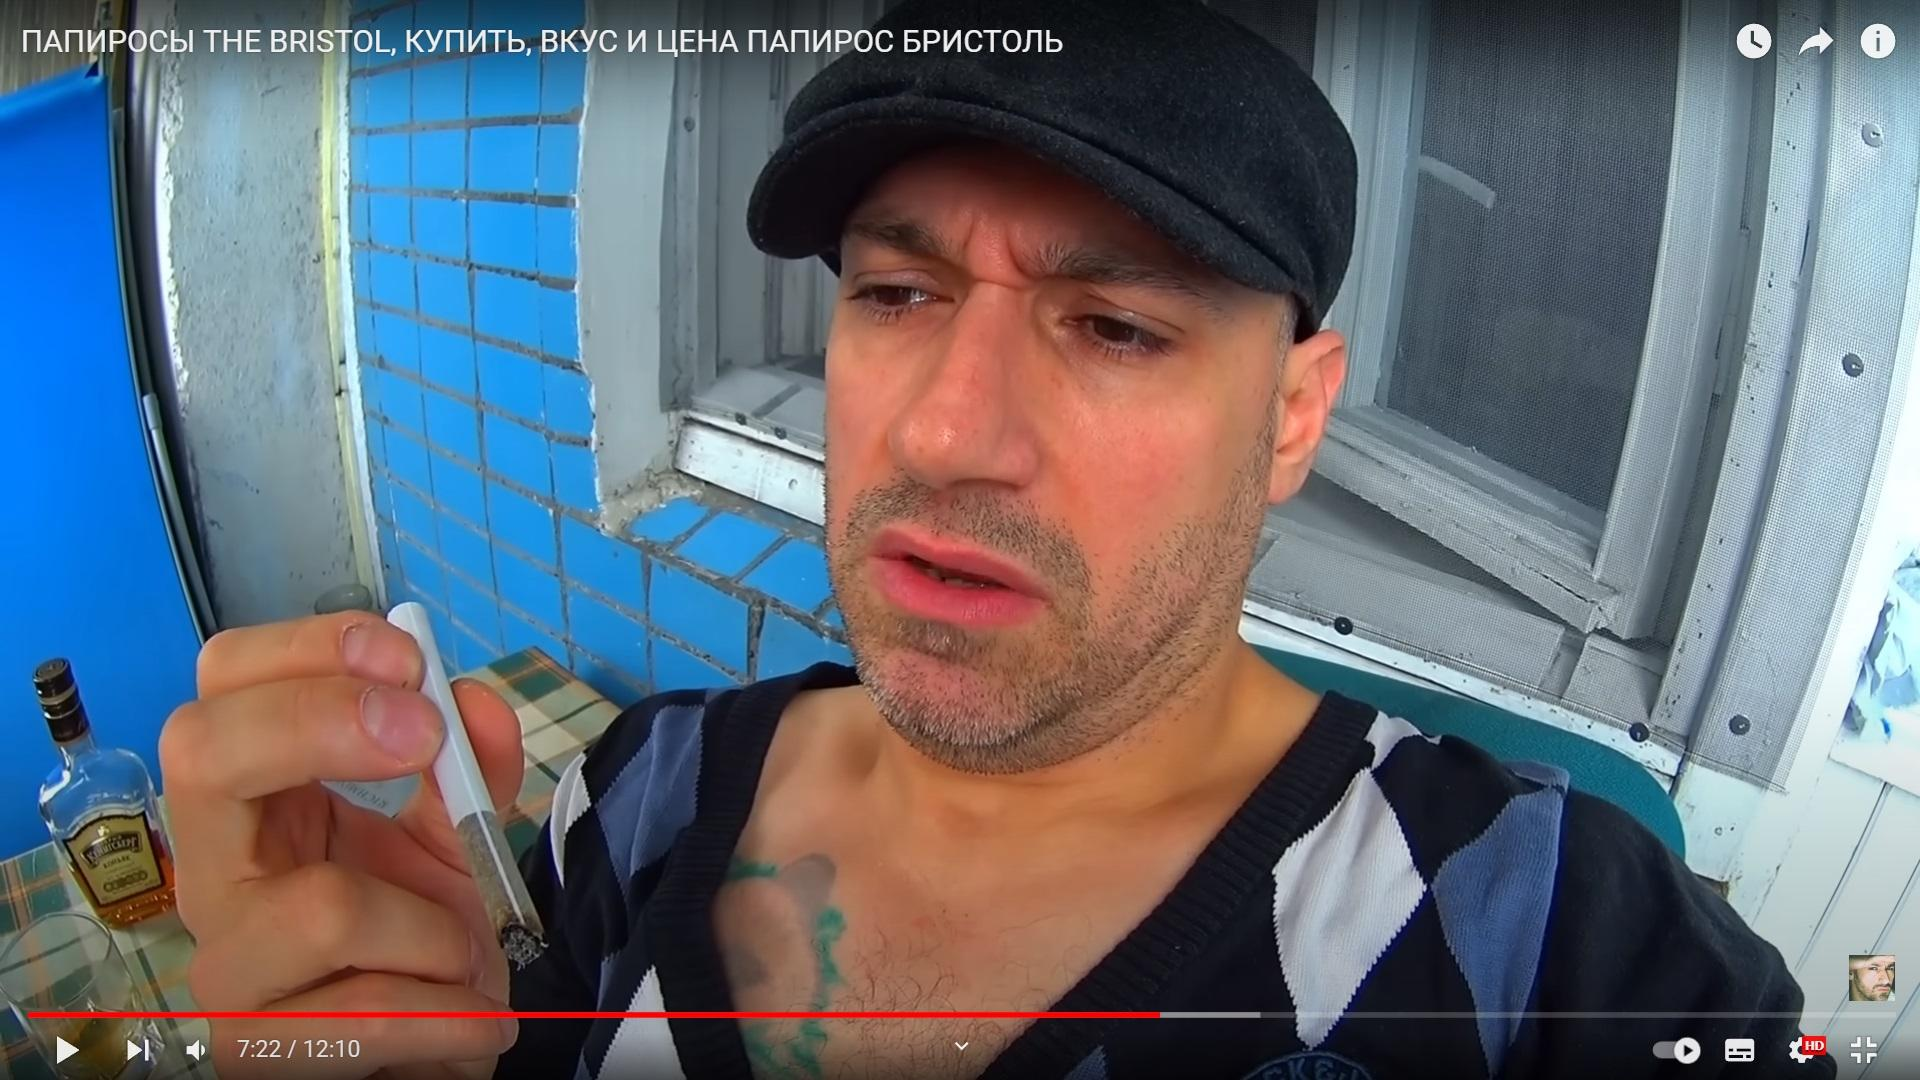cigarette: (386, 604, 547, 968)
